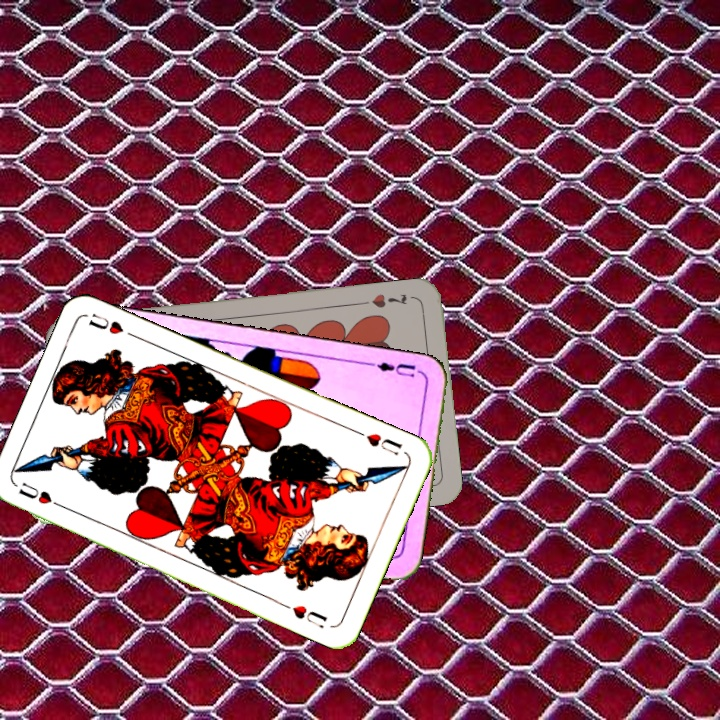EU: (365, 357, 418, 380)
H7: (368, 289, 410, 310)
HU: (14, 478, 69, 512), (352, 426, 405, 458)
